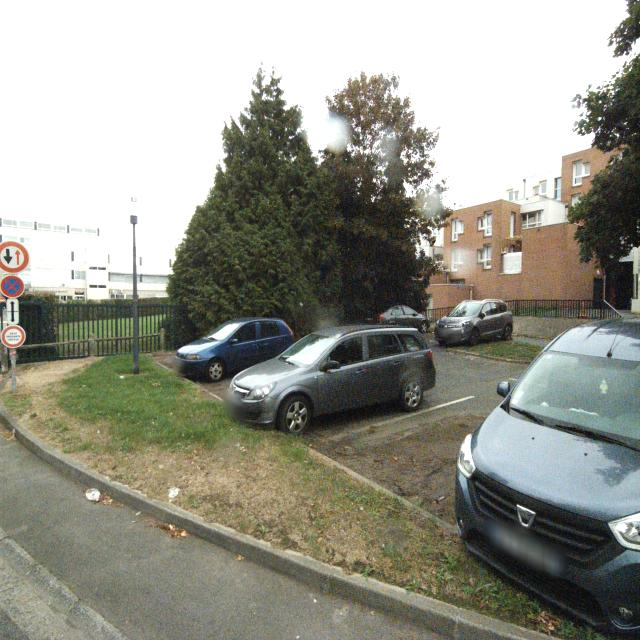car: (454, 315, 640, 640), (227, 323, 436, 433), (174, 316, 296, 383), (434, 297, 514, 346), (374, 303, 429, 331)
